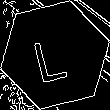L_N: (34, 27, 76, 83)
